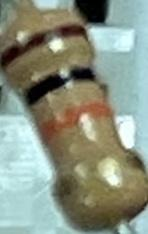Black: (19, 60, 100, 107)
Brown: (2, 19, 88, 72)
Orange: (38, 95, 119, 146)
Side-Silver: (51, 151, 148, 206)
